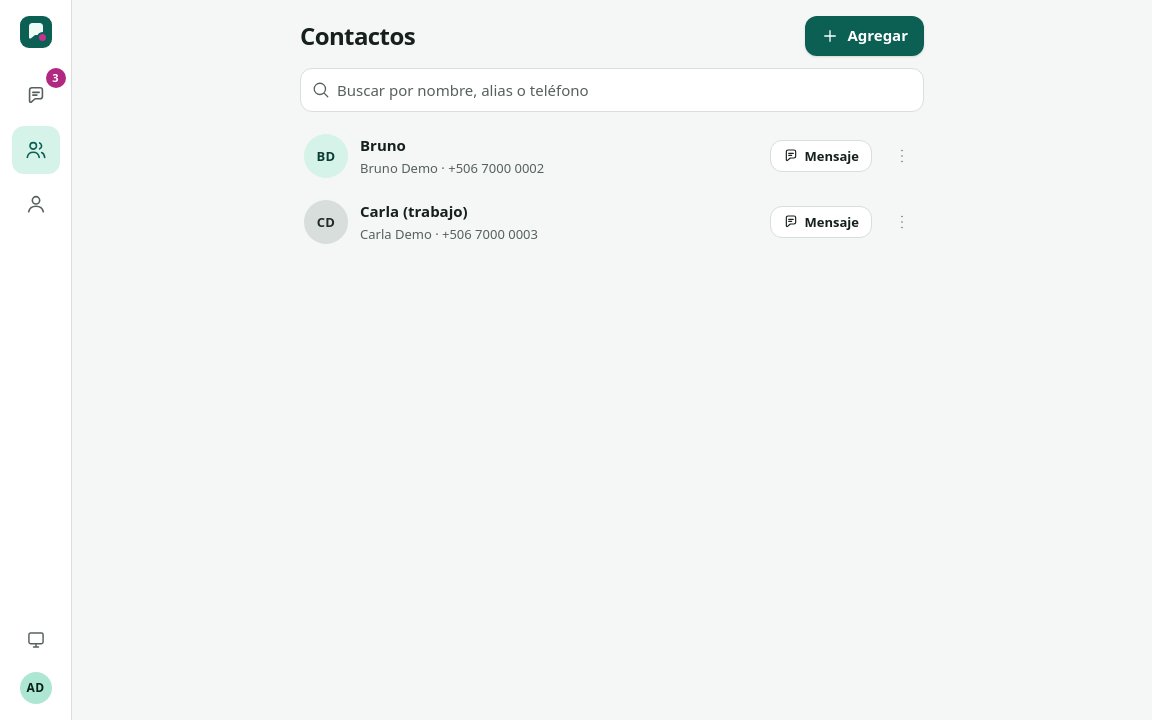
Test: contactos › lista por alias y busca sin distinguir acentos ni mayúsculas
Expected: the text "Carla (trabajo)" is shown, [360,201,468,221]
Expected: the text "Bruno" is shown, [360,135,406,155]
Type "CÁRLA" into the search field labelled "Buscar por nombre, alias o teléfono" at x=612, y=90, box [300,68,924,112]
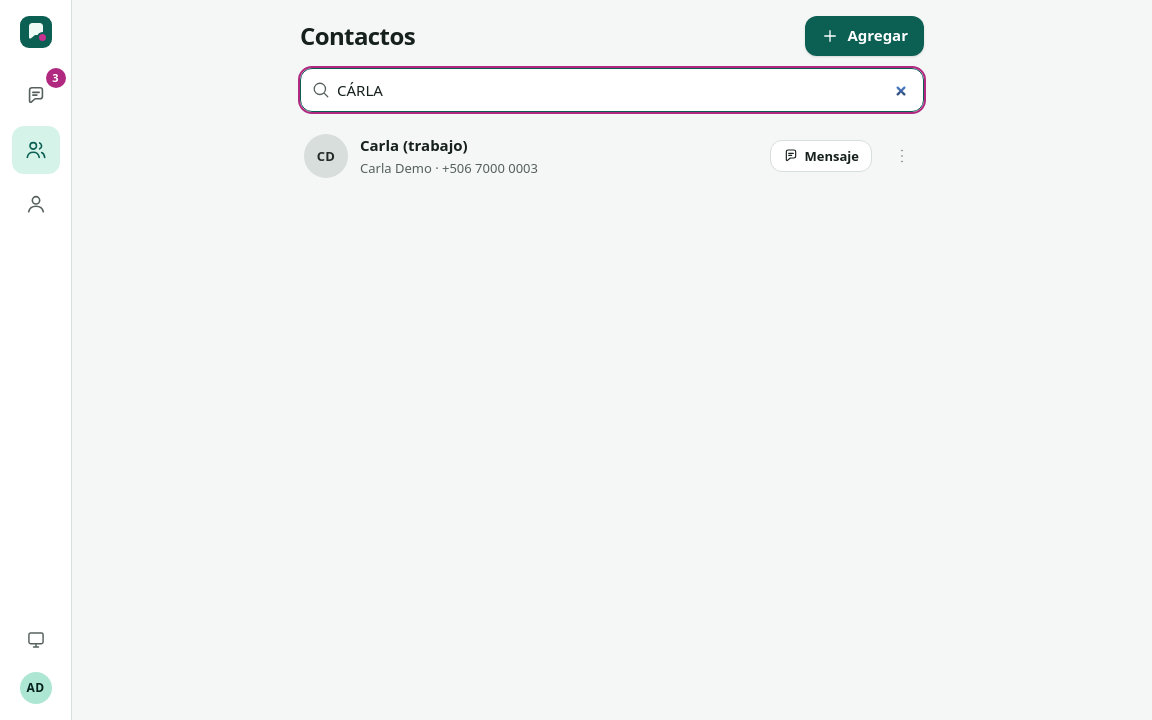
Expected: the text "Carla (trabajo)" is shown, [360,135,468,155]
Now the text "Bruno" is gone
